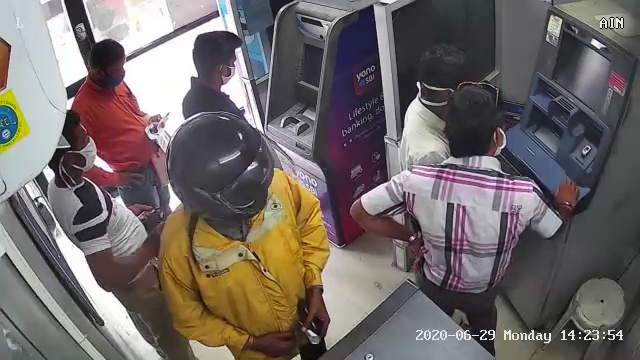helmet: (157, 107, 285, 233)
